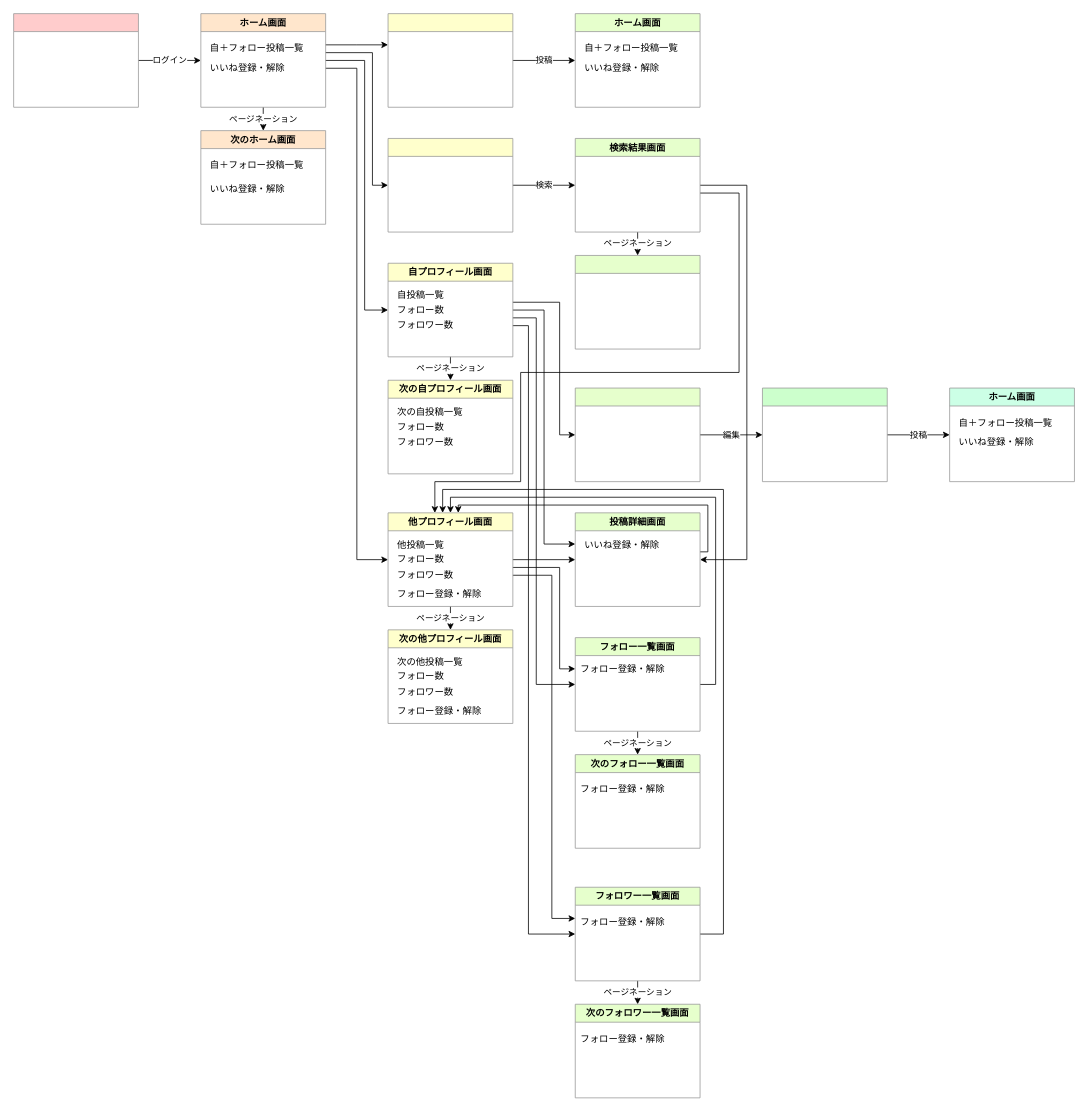
Some shapes in this 1088 by 1112 pixel diagram are drawn without their labels. Each missing label, with the centre of its shape:
"ログイン画面" goes at point 75,60.
"投稿検索画面" goes at point 450,185.
"新規投稿画面" goes at point 450,60.
"次の検索結果画面" goes at point 637,302.
"編集確認画面" goes at point 824,434.
"自投稿編集画面" goes at point 637,434.
